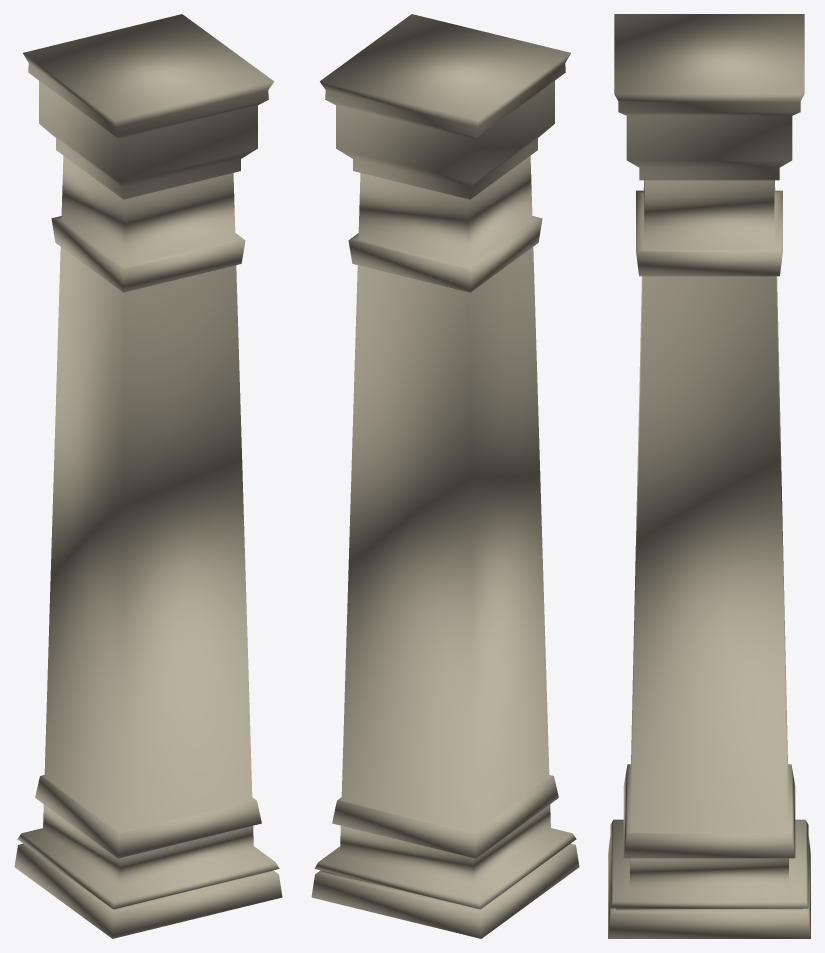
File: Column_SquareBig.glb
The picture shows the model from 3 angles, left to right: view 1: azimuth 30°, elevation 25°; view 2: azimuth 150°, elevation 25°; view 3: azimuth 270°, elevation 25°; orthographic projection. The views are drawn at different scales.
Parts seen in each view (by area): view 1: Column_SquareBig; view 2: Column_SquareBig; view 3: Column_SquareBig.
Boxes of the visible parts, x1,y1,x2,y2 form: Column_SquareBig: [14, 14, 282, 938]; Column_SquareBig: [311, 14, 579, 938]; Column_SquareBig: [608, 14, 810, 938].
Bounding box in the file's own units: 0.9073 × 4.16 × 0.9073.
